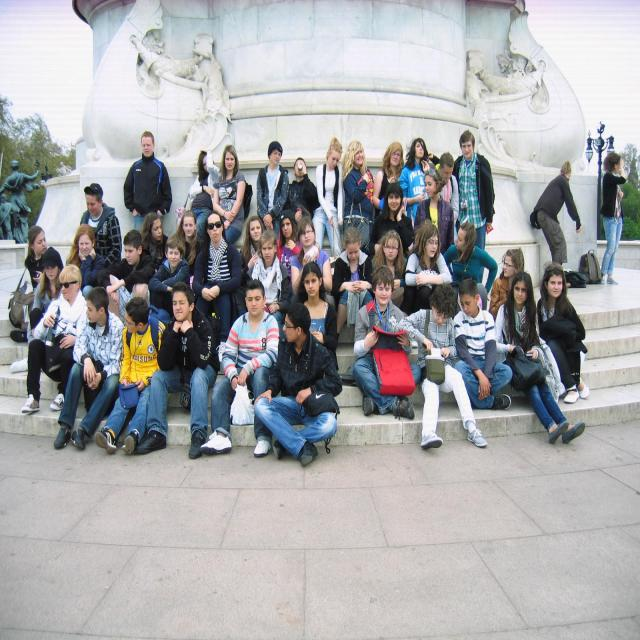body: (492, 270, 586, 444), (132, 281, 221, 464), (396, 281, 490, 450), (250, 302, 340, 468), (198, 280, 280, 458), (94, 297, 172, 457), (52, 285, 126, 450), (426, 127, 496, 285), (20, 262, 90, 414), (351, 263, 417, 421), (190, 209, 242, 364), (453, 277, 512, 410), (536, 261, 590, 404), (10, 245, 64, 374), (8, 224, 64, 343), (529, 160, 583, 267), (96, 229, 156, 325), (442, 222, 498, 321), (330, 226, 374, 351), (245, 228, 293, 342), (292, 261, 340, 372), (123, 130, 173, 232), (312, 136, 344, 280), (404, 223, 453, 310), (597, 150, 627, 286), (79, 182, 123, 270), (367, 181, 415, 260), (412, 167, 455, 255), (188, 147, 224, 252), (341, 138, 374, 252), (147, 234, 190, 320), (290, 214, 333, 297), (212, 145, 247, 245), (256, 140, 290, 241), (488, 246, 526, 324), (398, 136, 430, 228), (274, 209, 304, 305), (372, 140, 405, 218), (66, 224, 106, 287), (370, 229, 408, 292), (284, 156, 318, 221), (238, 214, 266, 288), (140, 210, 170, 272), (175, 210, 202, 276), (438, 151, 460, 226)
